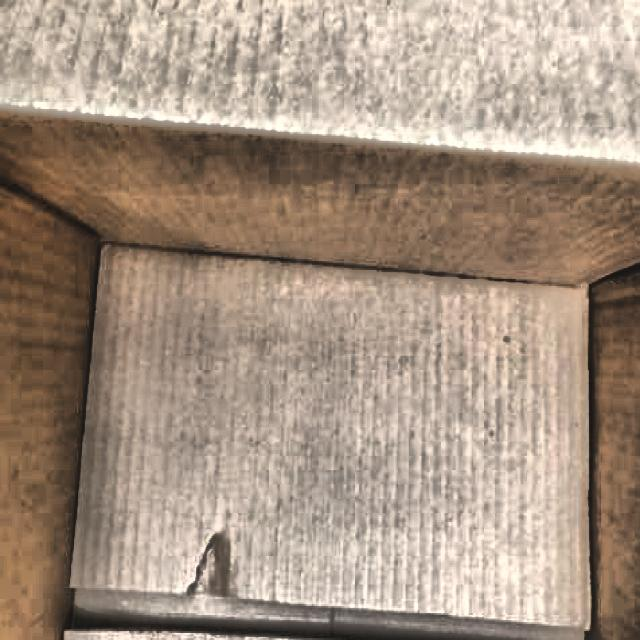cardboard: (65, 238, 594, 640)
